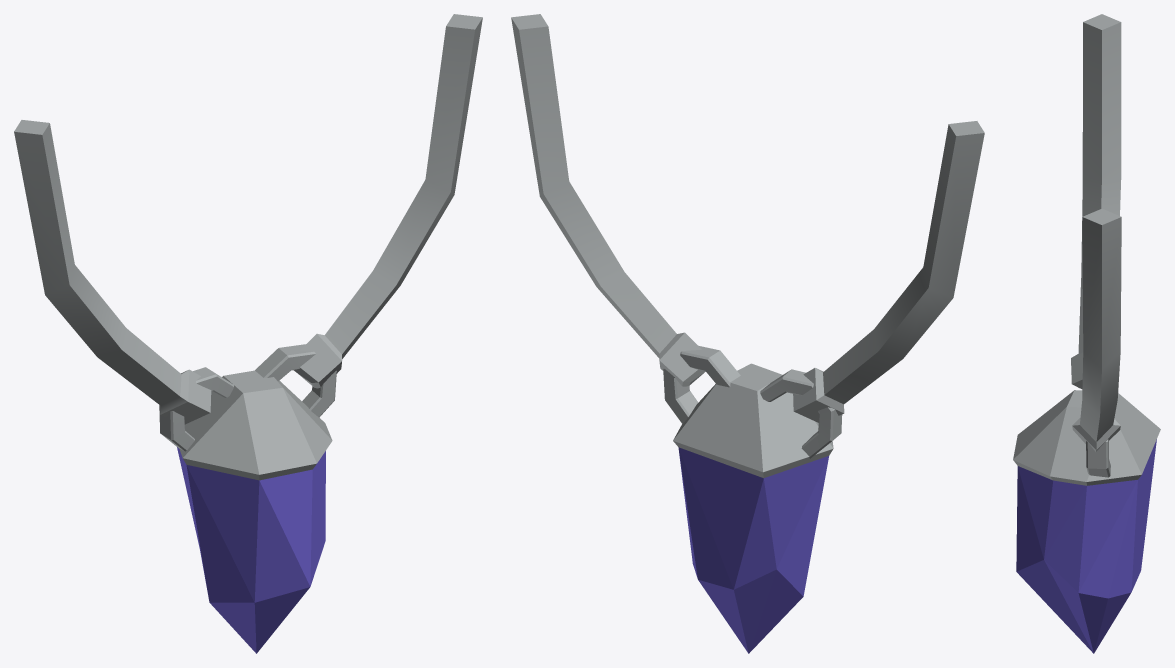
The model's file is amuletCrystal2.fbx.
The picture shows the model from 3 angles, left to right: view 1: azimuth 30°, elevation 25°; view 2: azimuth 150°, elevation 25°; view 3: azimuth 270°, elevation 25°; orthographic projection. The views are drawn at different scales.
Visible parts, largest first — view 1: amuletCrystal2; view 2: amuletCrystal2; view 3: amuletCrystal2.
Boxes of the visible parts, bbox=[...] form: amuletCrystal2: bbox=[14, 14, 482, 653]; amuletCrystal2: bbox=[511, 14, 984, 653]; amuletCrystal2: bbox=[1013, 14, 1160, 653].
Size of the model in its own units: 1.89 by 2.22 by 0.5591.
Materials: 1 (1 with a texture image).
